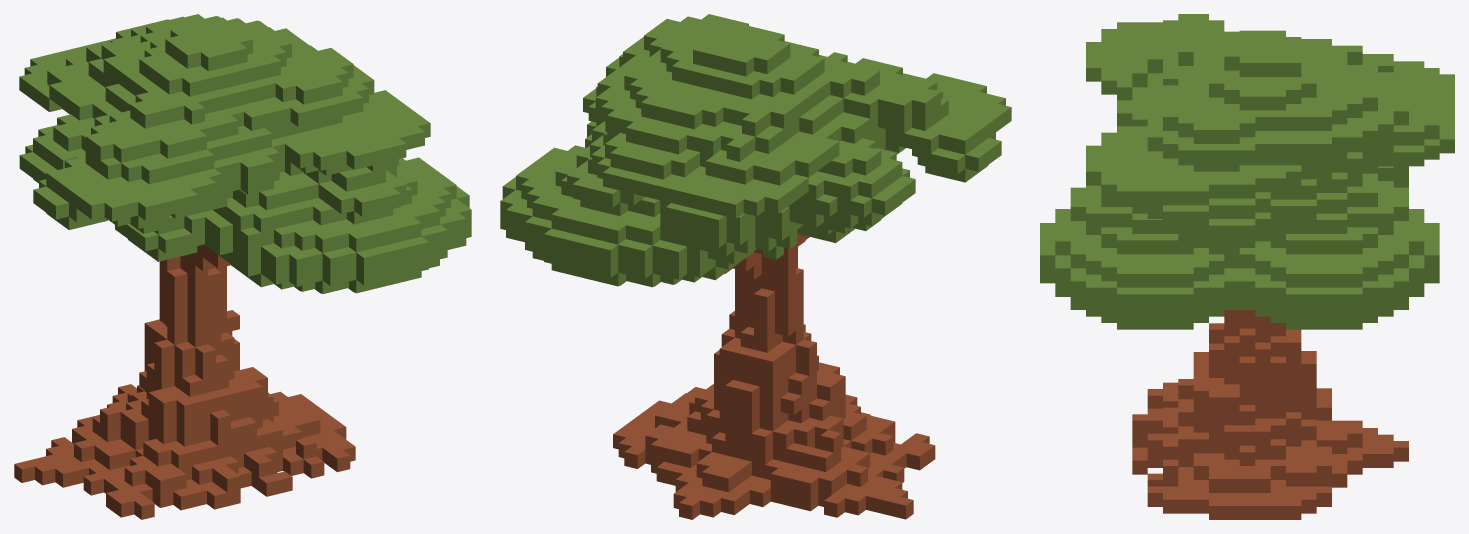
The model's file is tree.gltf.
3 renders of one model, left to right at view 1: azimuth 30°, elevation 25°; view 2: azimuth 150°, elevation 25°; view 3: azimuth 270°, elevation 25°, orthographic. The views are drawn at different scales.
Size of the model in its own units: 30 by 30 by 27.
2 materials, 2 textured.
